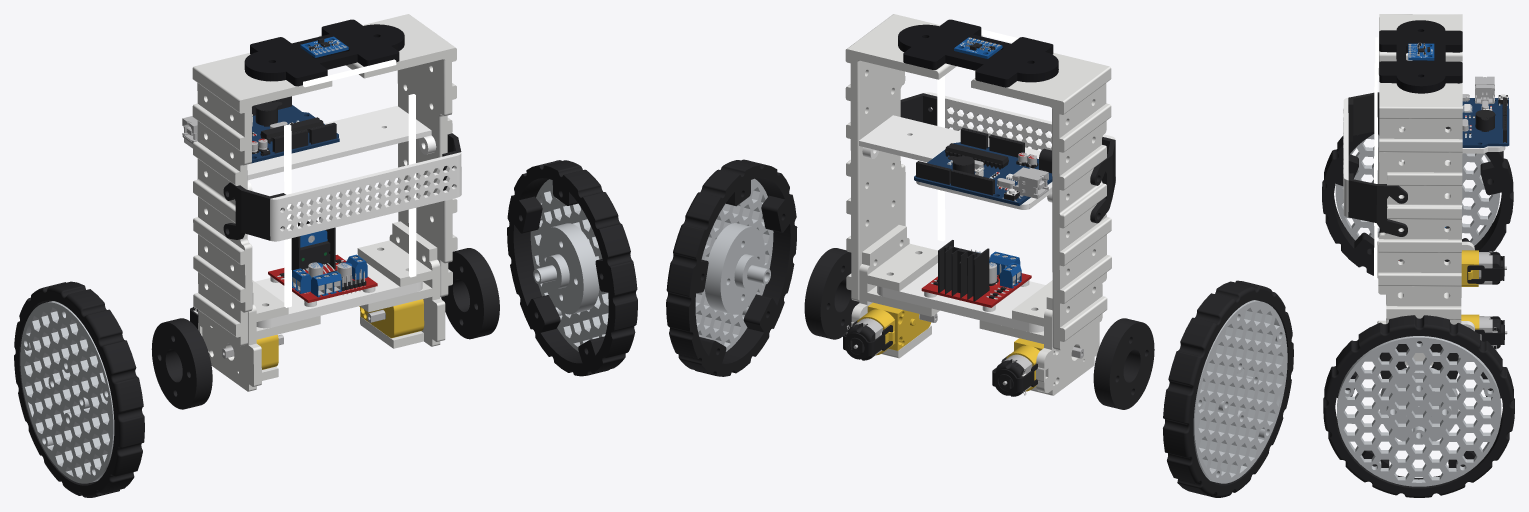
Rendered from robot_showcase.glb.
3 views of the same model, side by side, from view 1: azimuth 30°, elevation 25°; view 2: azimuth 150°, elevation 25°; view 3: azimuth 270°, elevation 25° (orthographic). The views are drawn at different scales.
Parts seen in each view (by area): view 1: Frame_Side_L, Wheel_Tire_R, Wheel_Face_L, Wheel_Tire_L, Frame_Side_R, Chassis_Battery_Plate, Chassis_Panel_Display, Frame_Bracket_R, Chassis_Plate_Main, Pulley_Wheel_R, Pulley_Idler_L, Board_L298N (+9 smaller); view 2: Frame_Side_L, Wheel_Tire_R, Wheel_Face_L, Frame_Side_R, Wheel_Tire_L, Chassis_Panel_Display, Frame_Bracket_R, Frame_Bracket_L, Pulley_Wheel_R, Pulley_Idler_L, Board_L298N, Chassis_Plate_Main (+16 smaller); view 3: Frame_Side_R, Wheel_Face_R, Wheel_Tire_R, Wheel_Tire_L, Chassis_Panel_Display, Wheel_Face_L, Motor_Mount_R, Frame_Side_L, Pulley_Wheel_R, Board_UNO, Motor_Mount_L, Pulley_Idler_R (+13 smaller).
Part boxes in pixels (box(x1,y1,x2,y2)): Frame_Side_L: box(192, 53, 332, 346); Wheel_Tire_R: box(507, 160, 637, 376); Wheel_Face_L: box(20, 301, 114, 483); Wheel_Tire_L: box(14, 281, 144, 497); Frame_Side_R: box(318, 14, 457, 297); Chassis_Battery_Plate: box(270, 152, 461, 241); Chassis_Panel_Display: box(244, 19, 404, 86); Frame_Bracket_R: box(357, 221, 445, 348); Chassis_Plate_Main: box(184, 106, 436, 191); Pulley_Wheel_R: box(533, 223, 599, 314); Pulley_Idler_L: box(151, 318, 212, 409); Board_L298N: box(268, 217, 377, 302); Frame_Side_L: box(971, 52, 1111, 350); Wheel_Tire_R: box(666, 159, 797, 376); Wheel_Face_L: box(1193, 300, 1287, 483); Frame_Side_R: box(845, 14, 984, 301); Wheel_Tire_L: box(1163, 280, 1293, 497); Chassis_Panel_Display: box(898, 19, 1058, 87); Frame_Bracket_R: box(851, 225, 939, 358); Frame_Bracket_L: box(979, 280, 1099, 395); Pulley_Wheel_R: box(704, 223, 770, 314); Pulley_Idler_L: box(1093, 318, 1154, 409); Board_L298N: box(921, 240, 1031, 307); Chassis_Plate_Main: box(859, 115, 1052, 209); Frame_Side_R: box(1378, 82, 1462, 324); Wheel_Face_R: box(1337, 336, 1501, 486); Wheel_Tire_R: box(1323, 315, 1514, 497); Wheel_Tire_L: box(1322, 132, 1513, 275); Chassis_Panel_Display: box(1379, 20, 1462, 93); Wheel_Face_L: box(1335, 134, 1499, 245); Motor_Mount_R: box(1348, 173, 1407, 236); Frame_Side_L: box(1378, 14, 1462, 183); Pulley_Wheel_R: box(1379, 367, 1458, 444); Board_UNO: box(1462, 98, 1509, 147); Motor_Mount_L: box(1348, 92, 1379, 141); Pulley_Idler_R: box(1379, 344, 1458, 379).
Size of the model in its own units: 0.3241 by 0.2287 by 0.1176.
